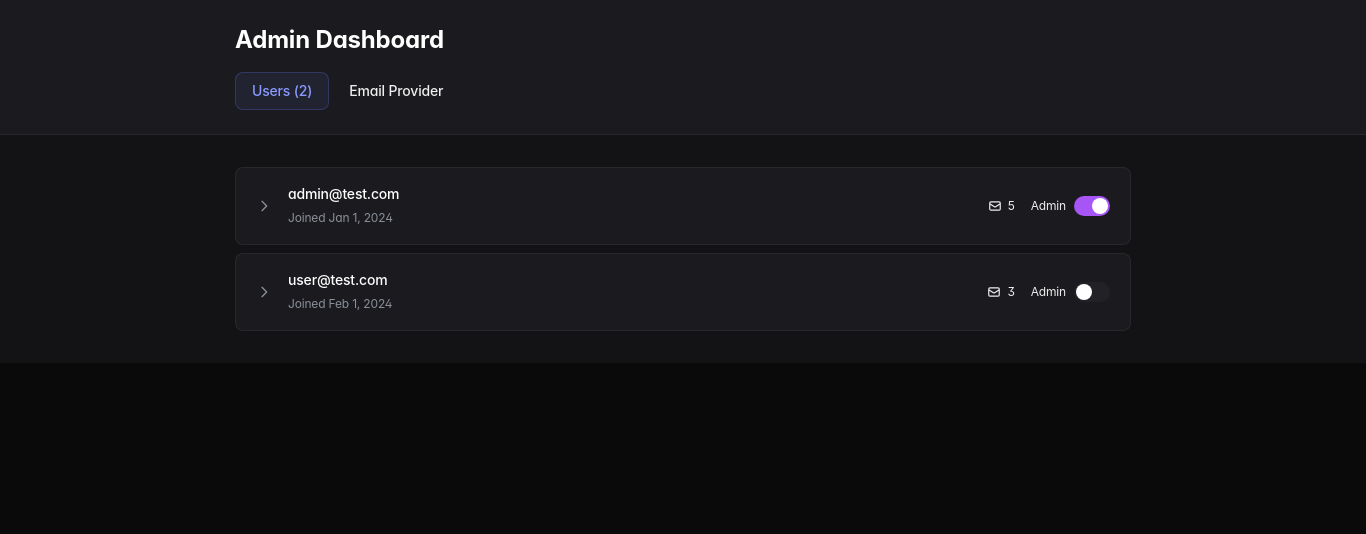
it: Admin - Email Provider Tab › shows email provider form when tab is clicked
This screenshot has width=1366, height=534.
Click the button "Email Provider": (396, 91) [333, 72, 459, 110]
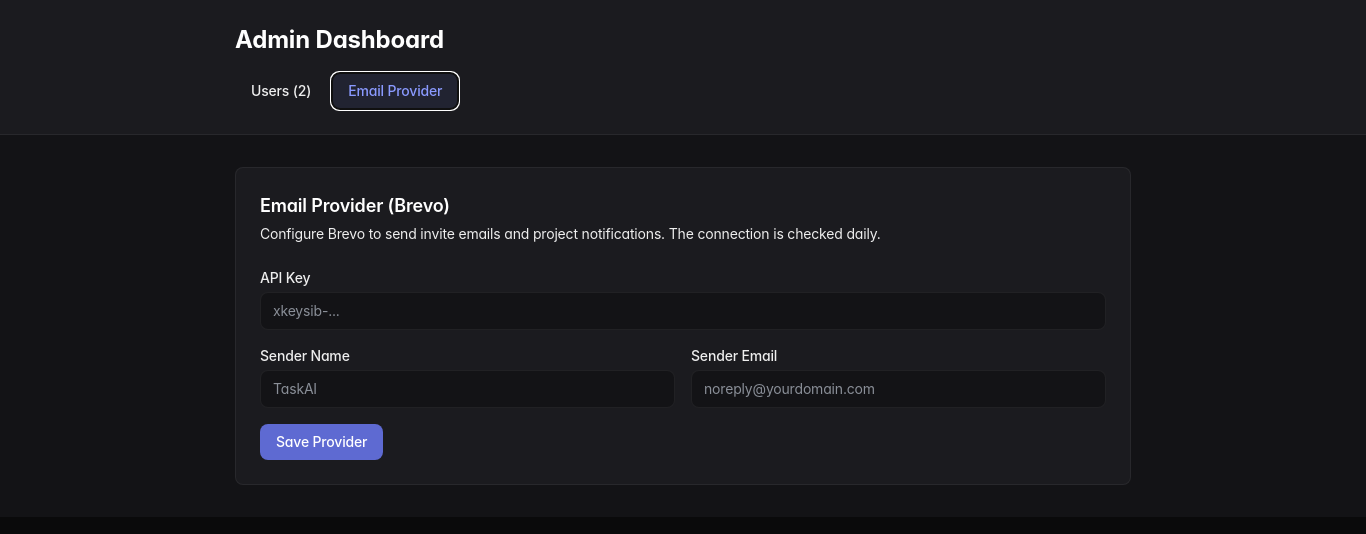
Now the heading "Email Provider (Brevo)" is shown, box [260, 195, 450, 216]
Now the button "Save Provider" is shown, box [260, 424, 383, 460]
